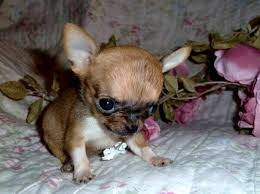chihuahua: (28, 14, 201, 181)
